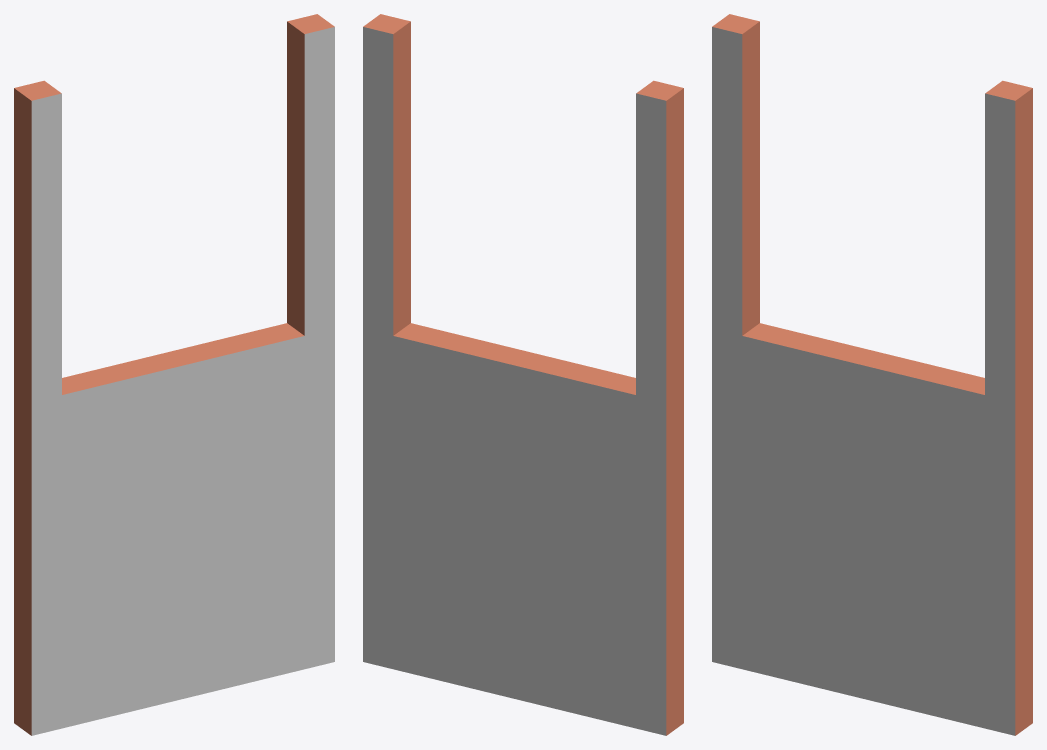
File: Short Window.fbx
3 views of the same model, side by side, from view 1: azimuth 30°, elevation 25°; view 2: azimuth 150°, elevation 25°; view 3: azimuth 330°, elevation 25° (orthographic).
Visible parts, largest first — view 1: Short Window; view 2: Short Window; view 3: Short Window.
Part boxes in pixels (bbox=[...]): Short Window: bbox=[14, 14, 334, 735]; Short Window: bbox=[363, 14, 683, 735]; Short Window: bbox=[712, 14, 1032, 735].
Bounding box in the file's own units: 100 × 200 × 10.
